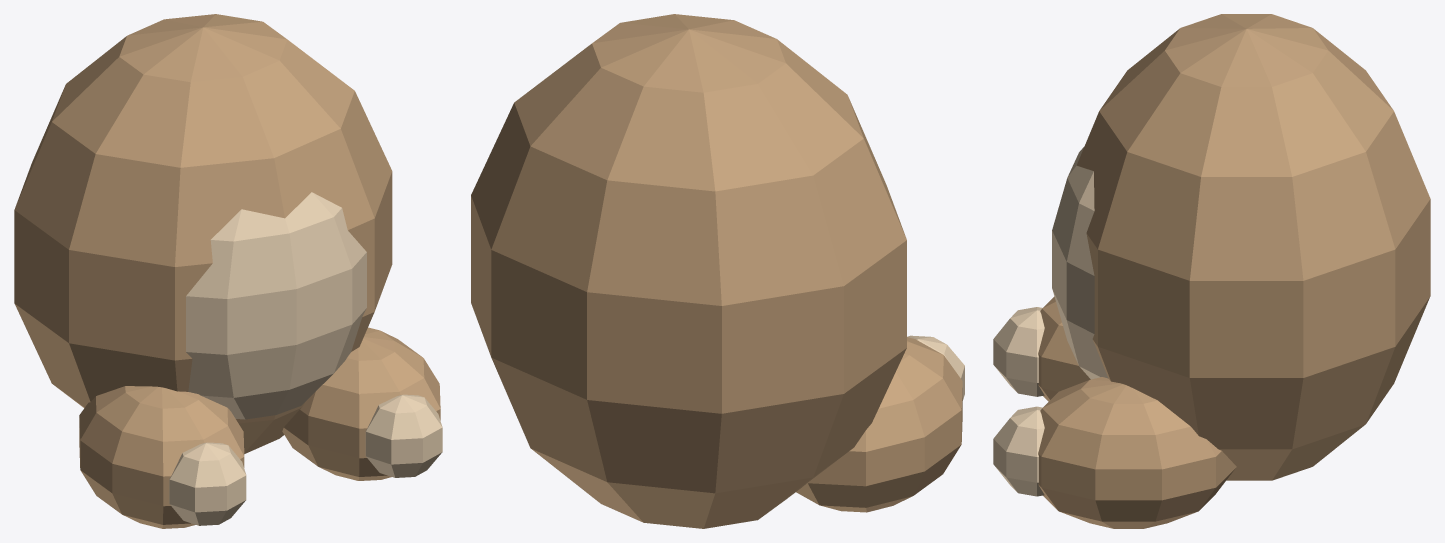
The model's file is toy_bear_body.glb.
The picture shows the model from 3 angles, left to right: view 1: azimuth 30°, elevation 25°; view 2: azimuth 150°, elevation 25°; view 3: azimuth 270°, elevation 25°; orthographic projection. The views are drawn at different scales.
Parts seen in each view (by area): view 1: Body, Belly; view 2: Body, Belly; view 3: Body, Belly.
Part boxes in pixels (left/top/right/bottom): Body: left=14, top=14, right=440, bottom=528; Belly: left=169, top=192, right=442, bottom=525; Body: left=471, top=14, right=962, bottom=528; Belly: left=907, top=335, right=964, bottom=400; Body: left=1038, top=14, right=1430, bottom=528; Belly: left=993, top=147, right=1108, bottom=496.
Bounding box in the file's own units: 0.3005 × 0.3725 × 0.3337.
